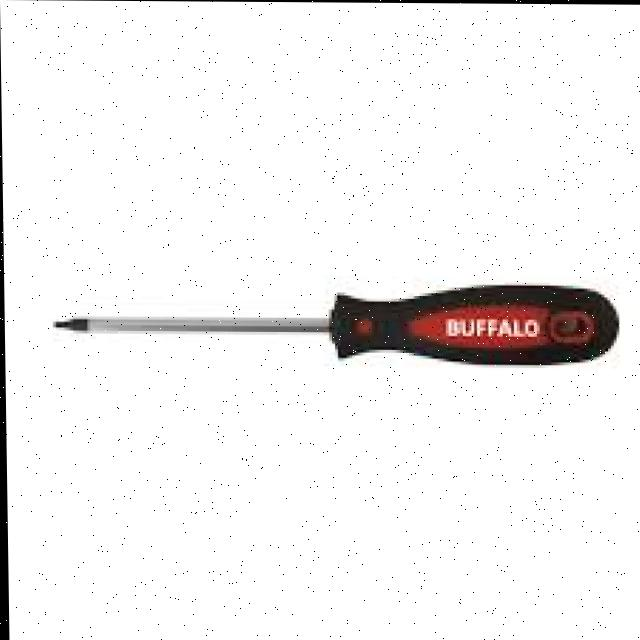Screwdriver: (54, 284, 617, 363)
